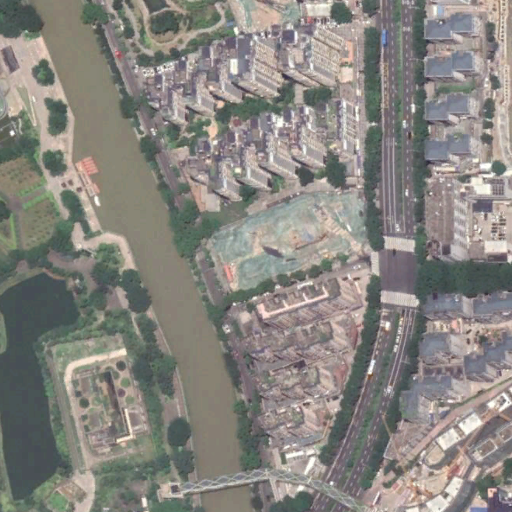cw: (208, 191, 369, 290)
